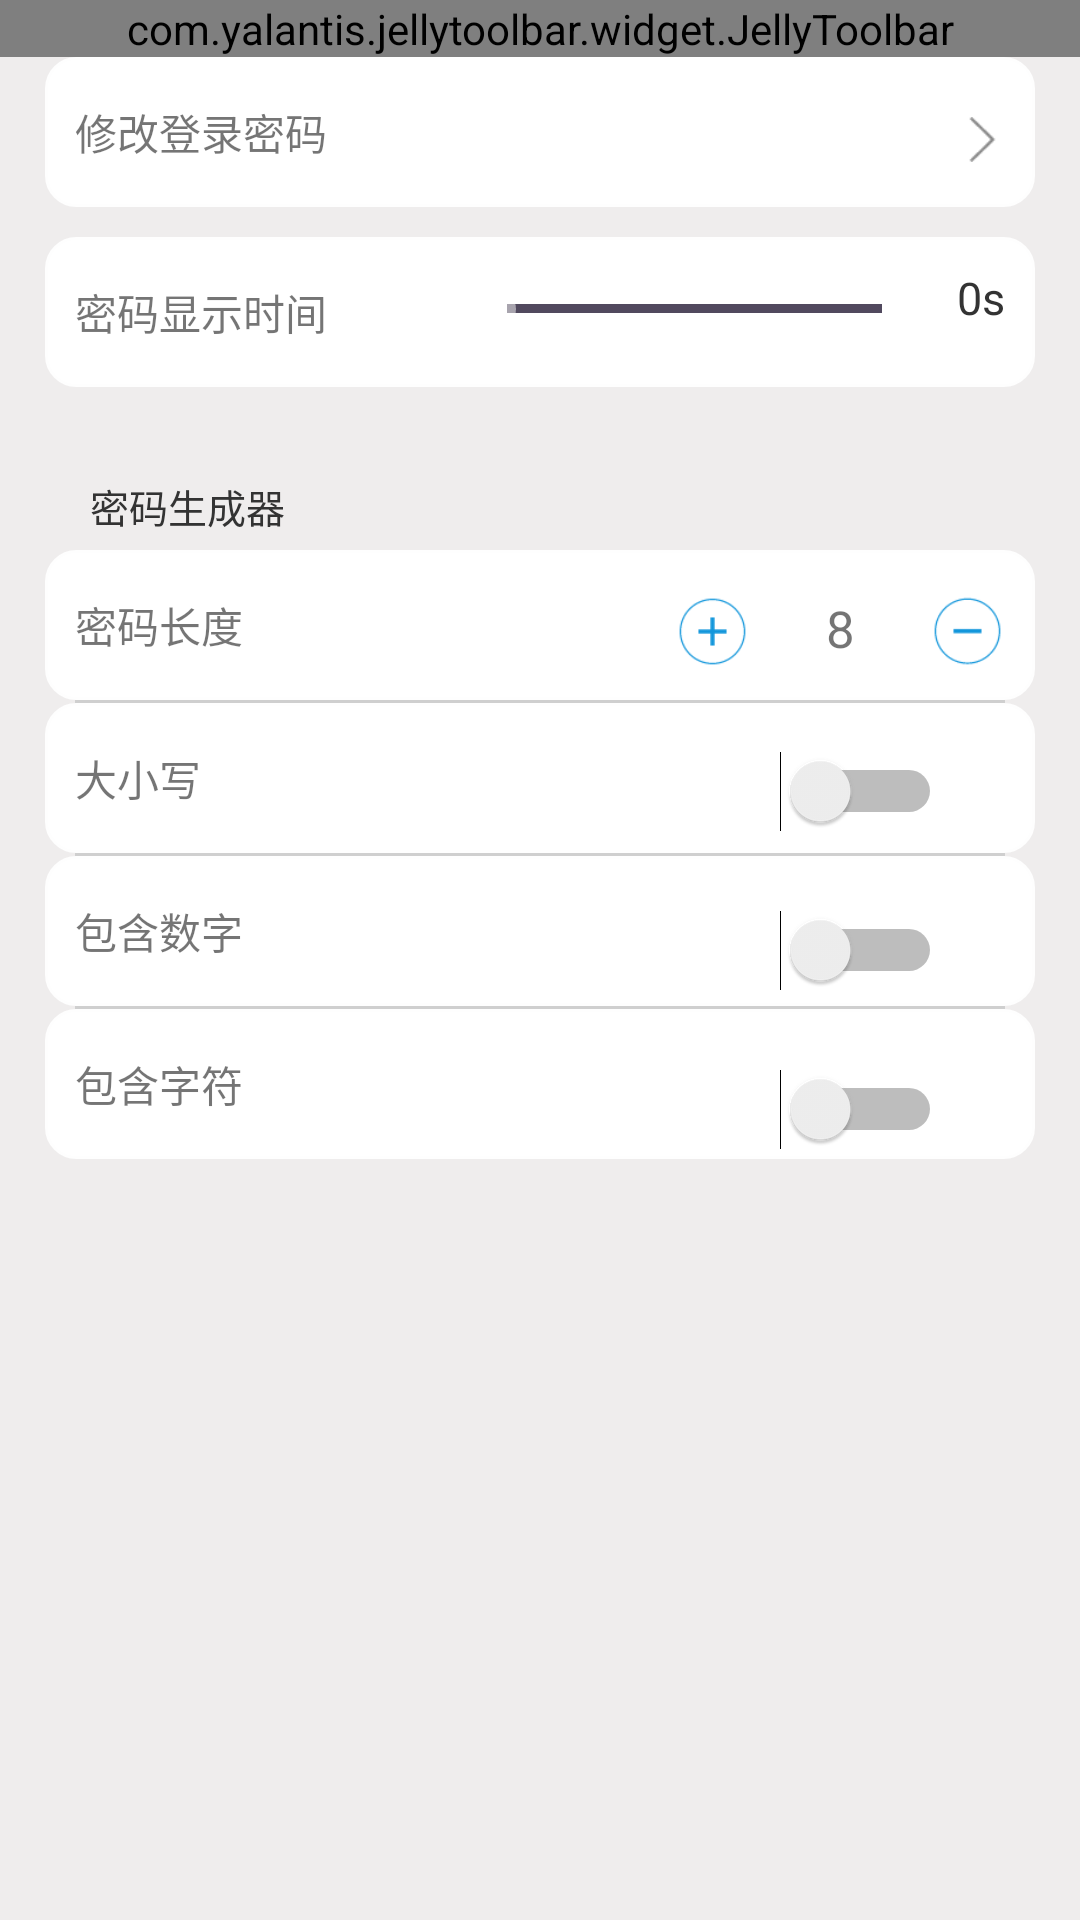

Locate icon controls on the screen. Image size 1080w x 1920h, boxes as (x1, y1, x2, y2).
add: (679, 598, 746, 665)
minus: (934, 597, 1001, 665)
right: (970, 117, 995, 162)
